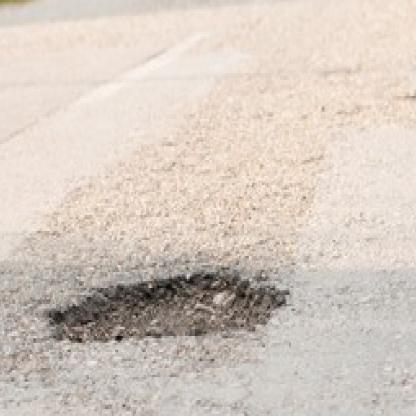pothole: (50, 270, 290, 341)
